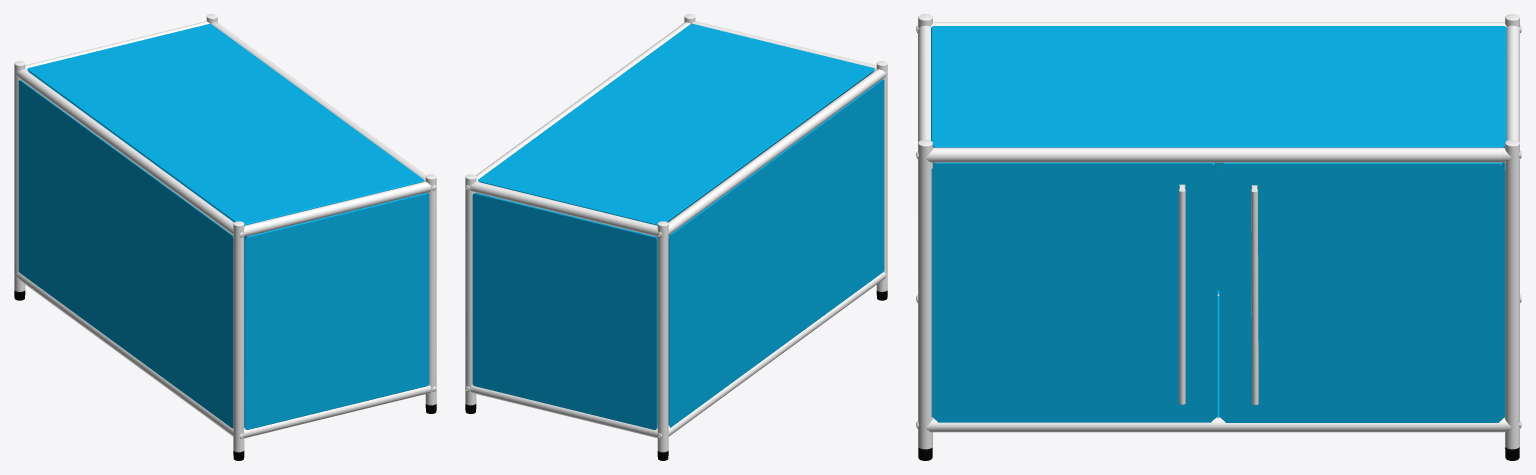
Rendered from 80x40x40-1-6-blue_optimized_optimized.glb.
3 views of the same model, side by side, from view 1: azimuth 30°, elevation 25°; view 2: azimuth 150°, elevation 25°; view 3: azimuth 270°, elevation 25° (orthographic). The views are drawn at different scales.
Parts seen in each view (by area): view 1: 直角鐵板-80x40-5 - 零件, new-上塞-1 - 零件; view 2: 直角鐵板-80x40-5 - 零件, new-上塞-1 - 零件; view 3: 直角鐵板-80x40-5 - 零件, new-上塞-1 - 零件.
Part boxes in pixels (x1=…): 直角鐵板-80x40-5 - 零件: x1=18, y1=23, x2=429, y2=429; new-上塞-1 - 零件: x1=14, y1=14, x2=436, y2=452; 直角鐵板-80x40-5 - 零件: x1=472, y1=23, x2=884, y2=429; new-上塞-1 - 零件: x1=465, y1=14, x2=887, y2=452; 直角鐵板-80x40-5 - 零件: x1=931, y1=26, x2=1506, y2=422; new-上塞-1 - 零件: x1=916, y1=14, x2=1521, y2=449.
Bounding box in the file's own units: 0.4203 × 0.4453 × 0.7732.
